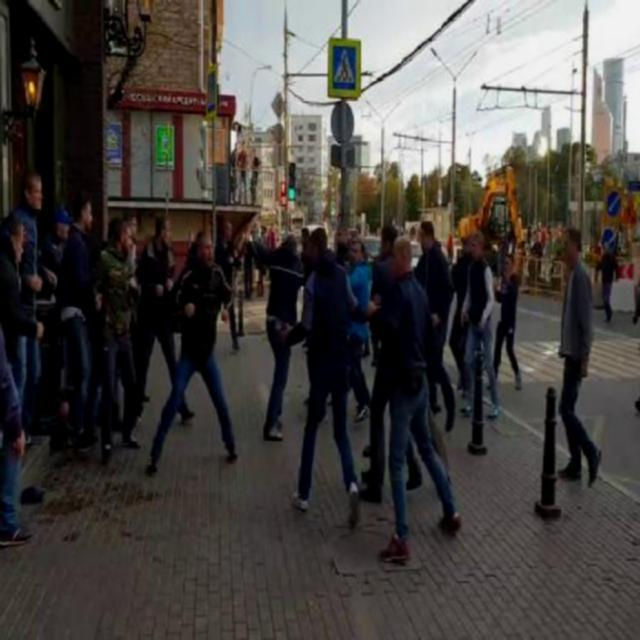non-fight: (143, 227, 240, 478), (61, 202, 144, 464)
